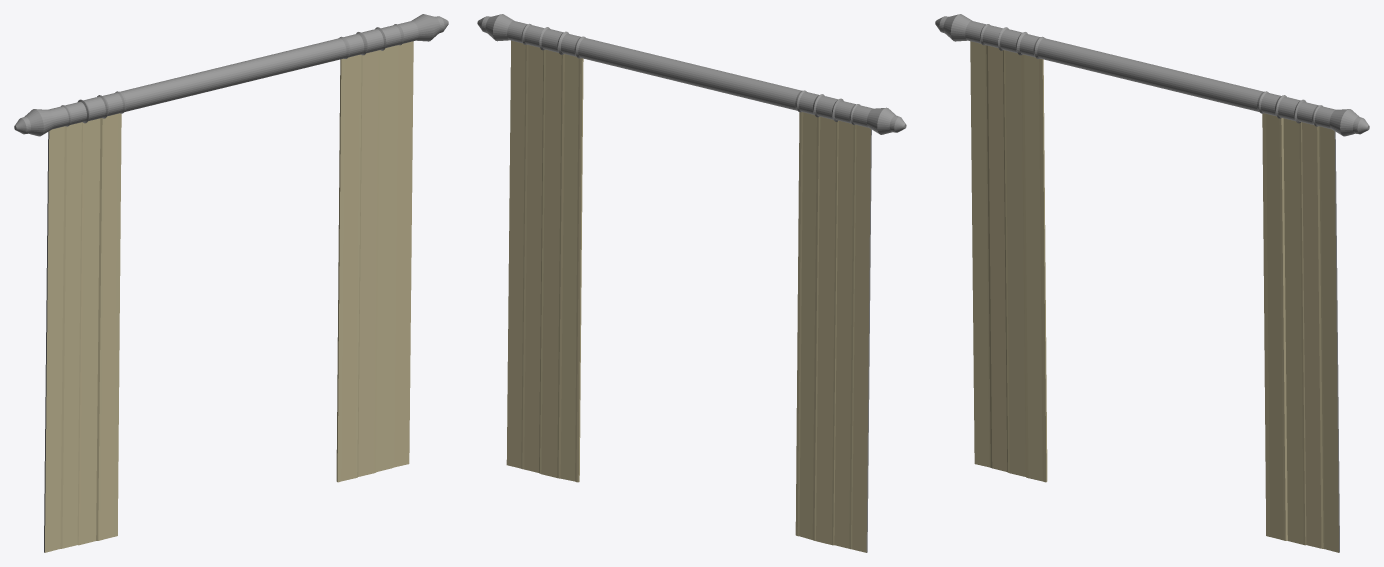
File: GArdinen.fbx
The picture shows the model from 3 angles, left to right: view 1: azimuth 30°, elevation 25°; view 2: azimuth 150°, elevation 25°; view 3: azimuth 330°, elevation 25°; orthographic projection.
Visible parts, largest first — view 1: Cylinder; view 2: Cylinder; view 3: Cylinder.
Part boxes in pixels (x1,y1,x2,y2): Cylinder: [14, 14, 448, 552]; Cylinder: [477, 14, 906, 552]; Cylinder: [935, 14, 1369, 552].
Bounding box in the file's own units: 474 × 472 × 26.81.
